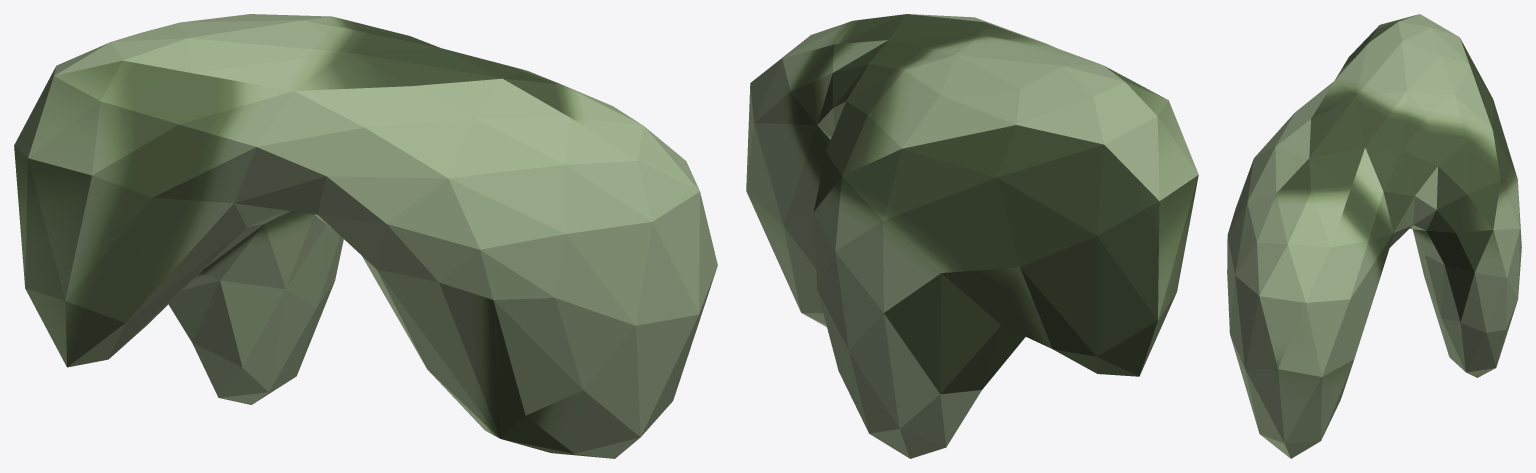
The model's file is EA_Swamp_tree6.010.glb.
3 renders of one model, left to right at view 1: azimuth 30°, elevation 25°; view 2: azimuth 150°, elevation 25°; view 3: azimuth 270°, elevation 25°, orthographic. The views are drawn at different scales.
Visible parts, largest first — view 1: EA_Swamp_tree6.010; view 2: EA_Swamp_tree6.010; view 3: EA_Swamp_tree6.010.
Boxes of the visible parts, x1,y1,x2,y2 form: EA_Swamp_tree6.010: (14,14,717,458); EA_Swamp_tree6.010: (746,14,1198,458); EA_Swamp_tree6.010: (1227,14,1521,458).
Bounding box in the file's own units: 2.79 × 1.99 × 1.76.
1 material, 1 textured.
